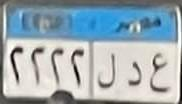2: (65, 43, 89, 89), (9, 32, 29, 84), (28, 44, 47, 82), (48, 46, 65, 86)
د: (123, 58, 145, 92)
ع: (148, 46, 170, 98)
ل: (95, 48, 118, 90)
